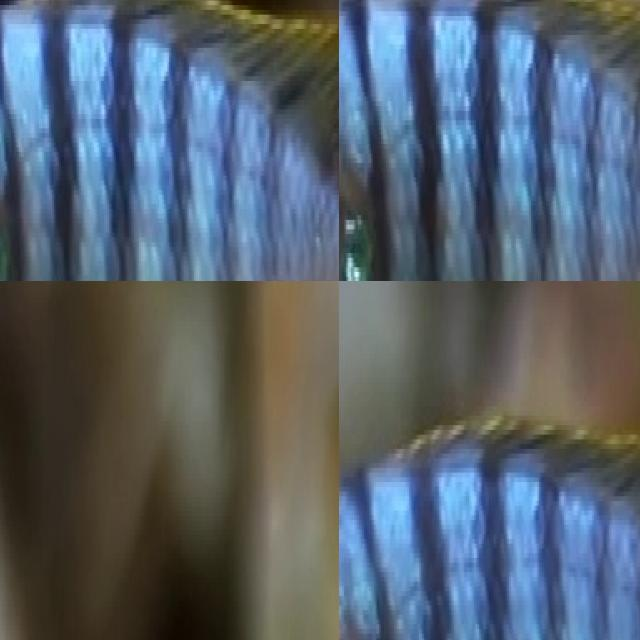fish: (339, 302, 640, 640), (0, 0, 339, 281)
